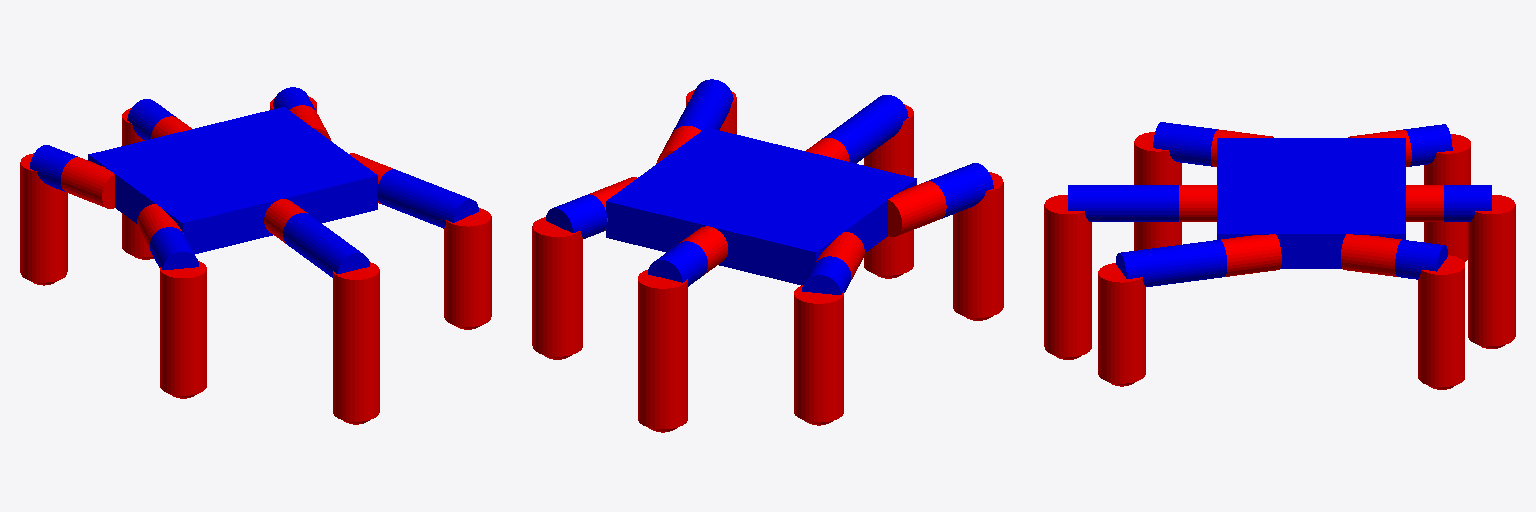
--- Facts derived from the render (not from the file) ---
3 views of the same robot in one strip: view 1: azimuth 30°, elevation 25°; view 2: azimuth 150°, elevation 25°; view 3: azimuth 270°, elevation 25° (orthographic).
Robot: pexod — 19 links, 18 joints (18 revolute); root link base_link; default pose: every joint at zero.
Links seen in each view (by area): view 1: base_link, leg_4_3, leg_5_3, leg_3_3, leg_0_3, leg_3_2, leg_4_2, leg_0_1, leg_5_2, leg_1_3, leg_0_2, leg_1_2 (+4 smaller); view 2: base_link, leg_1_3, leg_2_3, leg_0_3, leg_5_3, leg_4_3, leg_4_2, leg_5_1, leg_5_2, leg_3_2, leg_2_2, leg_1_2 (+5 smaller); view 3: base_link, leg_4_3, leg_1_3, leg_2_3, leg_3_3, leg_4_2, leg_3_2, leg_5_3, leg_0_3, leg_3_1, leg_2_1, leg_5_2 (+5 smaller).
Boxes of the visible links, x1,y1,x2,y2 form: base_link: (88,107,377,253); leg_4_3: (333,262,379,424); leg_5_3: (160,261,206,398); leg_3_3: (444,208,491,329); leg_0_3: (20,153,67,285); leg_3_2: (377,169,478,228); leg_4_2: (283,213,369,277); leg_0_1: (61,157,114,208); leg_5_2: (150,227,198,269); leg_1_3: (122,108,153,259); leg_0_2: (30,145,77,191); leg_1_2: (127,99,175,140); base_link: (606,127,916,285); leg_1_3: (638,270,687,432); leg_2_3: (532,217,582,359); leg_0_3: (794,285,843,425); leg_5_3: (953,172,1003,320); leg_4_3: (864,104,913,278); leg_4_2: (822,95,908,163); leg_5_1: (888,181,946,236); leg_5_2: (926,163,993,218); leg_3_2: (672,79,733,132); leg_2_2: (546,194,606,238); leg_1_2: (648,241,707,286); base_link: (1217,138,1405,268); leg_4_3: (1044,195,1091,359); leg_1_3: (1468,195,1515,348); leg_2_3: (1418,255,1464,389); leg_3_3: (1098,263,1145,386); leg_4_2: (1068,185,1178,221); leg_3_2: (1116,240,1226,286); leg_5_3: (1134,132,1181,250); leg_0_3: (1424,134,1470,261); leg_3_1: (1221,234,1281,276); leg_2_1: (1341,234,1401,276); leg_5_2: (1153,122,1217,166).
Bounding box of the posed robot: 0.3769 × 0.4973 × 0.1989 m (x, y, z).
Geometry: primitives only (box / cylinder / sphere), no mesh files.

The robot description file, URDF, robot "pexod":
<?xml version="1.0" ?>
<!-- =================================================================================== -->
<!-- |    This document was autogenerated by xacro from pexod.xacro                    | -->
<!-- |    EDITING THIS FILE BY HAND IS NOT RECOMMENDED                                 | -->
<!-- =================================================================================== -->
<robot name="pexod" xmlns:xacro="http://www.ros.org/wiki/xacro">
  <!-- <xacro:include filename="$(find pexod_description)/urdf/pexod_control.xacro" /> -->
  <!-- MATERIALS -->
  <material name="Blue">
    <color rgba="0 0 1 1"/>
  </material>
  <material name="Red">
    <color rgba="1 0 0 1"/>
  </material>
  <material name="Green">
    <color rgba="0 1 0 1"/>
  </material>
  <material name="Yellow">
    <color rgba="1 1 0 1"/>
  </material>
  <material name="LightGrey">
    <color rgba="0.6 0.6 0.6 1.0"/>
  </material>
  <!-- END OF MATERIALS -->
  <!-- XACRO MACROS FOR VISUALS AND COLLISIONS -->
  <!-- END OF XACRO MACROS -->
  <!-- TORSO -->
  <link name="base_link">
    <visual>
      <origin rpy="0 0 0" xyz="0 0 0"/>
      <geometry>
        <box size="0.24 0.2 0.04"/>
      </geometry>
      <material name="Blue"/>
    </visual>
    <collision>
      <origin rpy="0 0 0" xyz="0 0 0"/>
      <geometry>
        <box size="0.24 0.2 0.04"/>
      </geometry>
    </collision>
    <inertial>
      <!-- CENTER OF MASS -->
      <origin rpy="0 0 0" xyz="0 0 0"/>
      <mass value="1.031"/>
      <!-- box inertia: 1/12*m(y^2+z^2), ... -->
      <inertia ixx="0.00357413333333" ixy="0" ixz="0" iyy="0.00508626666667" iyz="0" izz="0.00838546666667"/>
    </inertial>
  </link>
  <!-- XACRO MACRO FOR LEGS LINKS/JOINTS -->
  <!-- END OF LEG LINKS/JOINTS -->
  <joint name="body_leg_2" type="revolute">
    <parent link="base_link"/>
    <child link="leg_2_1"/>
    <limit effort="30.0" lower="-1.57079632679" upper="1.57079632679" velocity="7.0"/>
    <origin rpy="0 0 -0.3" xyz="0.11 0.04 0"/>
    <!-- <xacro:if value="${index == 5 or index == 4 or index == 3}">
                <axis xyz="0 0 1"/>
            </xacro:if>
            <xacro:if value="${index == 2 or index == 1 or index == 0}"> -->
    <axis xyz="0 0 1"/>
    <!-- </xacro:if> -->
    <dynamics damping="0.0"/>
  </joint>
  <link name="leg_2_1">
    <visual>
      <origin rpy="1.57079632679 0 0" xyz="0.01 0.03 0"/>
      <geometry>
        <cylinder length="0.06" radius="0.02"/>
      </geometry>
      <material name="Red"/>
    </visual>
    <collision>
      <origin rpy="1.57079632679 0 0" xyz="0.01 0.03 0"/>
      <geometry>
        <box size="0.02 0.02 0.06"/>
      </geometry>
    </collision>
    <inertial>
      <!-- CENTER OF MASS -->
      <origin rpy="1.57079632679 0 0" xyz="0.01 0.03 0"/>
      <mass value="0.02"/>
      <!-- box inertia: 1/12*m(y^2+z^2), ... -->
      <inertia ixx="6.66666666667e-06" ixy="0" ixz="0" iyy="6.66666666667e-06" iyz="0" izz="1.33333333333e-06"/>
    </inertial>
  </link>
  <joint name="leg_2_1_2" type="revolute">
    <parent link="leg_2_1"/>
    <child link="leg_2_2"/>
    <limit effort="30.0" lower="-0.78539816339" upper="0.78539816339" velocity="7.0"/>
    <origin rpy="0 0 0" xyz="0 0.06 0"/>
    <axis xyz="1 0 0"/>
    <dynamics damping="0.0"/>
  </joint>
  <link name="leg_2_2">
    <visual>
      <origin rpy="1.57079632679 0 0" xyz="0.01 0.023179310268 0"/>
      <geometry>
        <cylinder length="0.0463586205359" radius="0.02"/>
      </geometry>
      <material name="Blue"/>
    </visual>
    <collision>
      <origin rpy="1.57079632679 0 0" xyz="0.01 0.023179310268 0"/>
      <geometry>
        <box size="0.02 0.02 0.0463586205359"/>
      </geometry>
    </collision>
    <inertial>
      <!-- CENTER OF MASS -->
      <origin rpy="1.57079632679 0 0" xyz="0.01 0.023179310268 0"/>
      <mass value="0.184"/>
      <!-- box inertia: 1/12*m(y^2+z^2), ... -->
      <inertia ixx="3.90865327025e-05" ixy="0" ixz="0" iyy="3.90865327025e-05" iyz="0" izz="1.22666666667e-05"/>
    </inertial>
  </link>
  <joint name="leg_2_2_3" type="revolute">
    <parent link="leg_2_2"/>
    <child link="leg_2_3"/>
    <limit effort="30.0" lower="-0.78539816339" upper="0.78539816339" velocity="7.0"/>
    <origin rpy="-1.57079632679 0 0" xyz="0 0.0463586205359 0"/>
    <axis xyz="-1 0 0"/>
    <dynamics damping="0.0"/>
  </joint>
  <link name="leg_2_3">
    <visual>
      <origin rpy="1.57079632679 0 0" xyz="0.0125 0.065428430528 0"/>
      <geometry>
        <cylinder length="0.130856861056" radius="0.025"/>
      </geometry>
      <material name="Red"/>
    </visual>
    <visual>
      <origin rpy="1.57079632679 0 0" xyz="0.0125 0.118356861056 0"/>
      <geometry>
        <sphere radius="0.025"/>
      </geometry>
      <material name="Red"/>
    </visual>
    <collision>
      <origin rpy="1.57079632679 0 0" xyz="0.0125 0.065428430528 0"/>
      <geometry>
        <box size="0.025 0.025 0.130856861056"/>
      </geometry>
    </collision>
    <collision>
      <origin rpy="1.57079632679 0 0" xyz="0.0125 0.118356861056 0"/>
      <geometry>
        <sphere radius="0.025"/>
      </geometry>
      <material name="Red"/>
    </collision>
    <inertial>
      <!-- CENTER OF MASS -->
      <origin rpy="1.57079632679 0 0" xyz="0.0125 0.065428430528 0"/>
      <mass value="0.04"/>
      <!-- box inertia: 1/12*m(y^2+z^2), ... -->
      <inertia ixx="5.91617269514e-05" ixy="0" ixz="0" iyy="5.91617269514e-05" iyz="0" izz="4.16666666667e-06"/>
    </inertial>
  </link>
  <joint name="body_leg_3" type="revolute">
    <parent link="base_link"/>
    <child link="leg_3_1"/>
    <limit effort="30.0" lower="-1.57079632679" upper="1.57079632679" velocity="7.0"/>
    <origin rpy="0 0 0.3" xyz="0.11 -0.04 0"/>
    <!-- <xacro:if value="${index == 5 or index == 4 or index == 3}">
                <axis xyz="0 0 1"/>
            </xacro:if>
            <xacro:if value="${index == 2 or index == 1 or index == 0}"> -->
    <axis xyz="0 0 1"/>
    <!-- </xacro:if> -->
    <dynamics damping="0.0"/>
  </joint>
  <link name="leg_3_1">
    <visual>
      <origin rpy="1.57079632679 0 0" xyz="0.01 -0.03 0"/>
      <geometry>
        <cylinder length="0.06" radius="0.02"/>
      </geometry>
      <material name="Red"/>
    </visual>
    <collision>
      <origin rpy="1.57079632679 0 0" xyz="0.01 -0.03 0"/>
      <geometry>
        <box size="0.02 0.02 0.06"/>
      </geometry>
    </collision>
    <inertial>
      <!-- CENTER OF MASS -->
      <origin rpy="1.57079632679 0 0" xyz="0.01 -0.03 0"/>
      <mass value="0.02"/>
      <!-- box inertia: 1/12*m(y^2+z^2), ... -->
      <inertia ixx="6.66666666667e-06" ixy="0" ixz="0" iyy="6.66666666667e-06" iyz="0" izz="1.33333333333e-06"/>
    </inertial>
  </link>
  <joint name="leg_3_1_2" type="revolute">
    <parent link="leg_3_1"/>
    <child link="leg_3_2"/>
    <limit effort="30.0" lower="-0.78539816339" upper="0.78539816339" velocity="7.0"/>
    <origin rpy="0 0 0" xyz="0 -0.06 0"/>
    <axis xyz="-1 0 0"/>
    <dynamics damping="0.0"/>
  </joint>
  <link name="leg_3_2">
    <visual>
      <origin rpy="1.57079632679 0 0" xyz="0.01 -0.0555619319605 0"/>
      <geometry>
        <cylinder length="0.111123863921" radius="0.02"/>
      </geometry>
      <material name="Blue"/>
    </visual>
    <collision>
      <origin rpy="1.57079632679 0 0" xyz="0.01 -0.0555619319605 0"/>
      <geometry>
        <box size="0.02 0.02 0.111123863921"/>
      </geometry>
    </collision>
    <inertial>
      <!-- CENTER OF MASS -->
      <origin rpy="1.57079632679 0 0" xyz="0.01 -0.0555619319605 0"/>
      <mass value="0.184"/>
      <!-- box inertia: 1/12*m(y^2+z^2), ... -->
      <inertia ixx="0.000195477201369" ixy="0" ixz="0" iyy="0.000195477201369" iyz="0" izz="1.22666666667e-05"/>
    </inertial>
  </link>
  <joint name="leg_3_2_3" type="revolute">
    <parent link="leg_3_2"/>
    <child link="leg_3_3"/>
    <limit effort="30.0" lower="-0.78539816339" upper="0.78539816339" velocity="7.0"/>
    <origin rpy="1.57079632679 0 0" xyz="0 -0.111123863921 0"/>
    <axis xyz="1 0 0"/>
    <dynamics damping="0.0"/>
  </joint>
  <link name="leg_3_3">
    <visual>
      <origin rpy="1.57079632679 0 0" xyz="0.0125 -0.058906116355 0"/>
      <geometry>
        <cylinder length="0.11781223271" radius="0.025"/>
      </geometry>
      <material name="Red"/>
    </visual>
    <visual>
      <origin rpy="1.57079632679 0 0" xyz="0.0125 -0.10531223271 0"/>
      <geometry>
        <sphere radius="0.025"/>
      </geometry>
      <material name="Red"/>
    </visual>
    <collision>
      <origin rpy="1.57079632679 0 0" xyz="0.0125 -0.058906116355 0"/>
      <geometry>
        <box size="0.025 0.025 0.11781223271"/>
      </geometry>
    </collision>
    <collision>
      <origin rpy="1.57079632679 0 0" xyz="0.0125 -0.10531223271 0"/>
      <geometry>
        <sphere radius="0.025"/>
      </geometry>
      <material name="Red"/>
    </collision>
    <inertial>
      <!-- CENTER OF MASS -->
      <origin rpy="1.57079632679 0 0" xyz="0.0125 -0.058906116355 0"/>
      <mass value="0.04"/>
      <!-- box inertia: 1/12*m(y^2+z^2), ... -->
      <inertia ixx="4.83490739204e-05" ixy="0" ixz="0" iyy="4.83490739204e-05" iyz="0" izz="4.16666666667e-06"/>
    </inertial>
  </link>
  <joint name="body_leg_0" type="revolute">
    <parent link="base_link"/>
    <child link="leg_0_1"/>
    <limit effort="30.0" lower="-1.57079632679" upper="1.57079632679" velocity="7.0"/>
    <origin rpy="0 0 0.3" xyz="-0.13 0.04 0"/>
    <!-- <xacro:if value="${index == 5 or index == 4 or index == 3}">
                <axis xyz="0 0 1"/>
            </xacro:if>
            <xacro:if value="${index == 2 or index == 1 or index == 0}"> -->
    <axis xyz="0 0 1"/>
    <!-- </xacro:if> -->
    <dynamics damping="0.0"/>
  </joint>
  <link name="leg_0_1">
    <visual>
      <origin rpy="1.57079632679 0 0" xyz="0.01 0.03 0"/>
      <geometry>
        <cylinder length="0.06" radius="0.02"/>
      </geometry>
      <material name="Red"/>
    </visual>
    <collision>
      <origin rpy="1.57079632679 0 0" xyz="0.01 0.03 0"/>
      <geometry>
        <box size="0.02 0.02 0.06"/>
      </geometry>
    </collision>
    <inertial>
      <!-- CENTER OF MASS -->
      <origin rpy="1.57079632679 0 0" xyz="0.01 0.03 0"/>
      <mass value="0.02"/>
      <!-- box inertia: 1/12*m(y^2+z^2), ... -->
      <inertia ixx="6.66666666667e-06" ixy="0" ixz="0" iyy="6.66666666667e-06" iyz="0" izz="1.33333333333e-06"/>
    </inertial>
  </link>
  <joint name="leg_0_1_2" type="revolute">
    <parent link="leg_0_1"/>
    <child link="leg_0_2"/>
    <limit effort="30.0" lower="-0.78539816339" upper="0.78539816339" velocity="7.0"/>
    <origin rpy="0 0 0" xyz="0 0.06 0"/>
    <axis xyz="1 0 0"/>
    <dynamics damping="0.0"/>
  </joint>
  <link name="leg_0_2">
    <visual>
      <origin rpy="1.57079632679 0 0" xyz="0.01 0.0225320813019 0"/>
      <geometry>
        <cylinder length="0.0450641626039" radius="0.02"/>
      </geometry>
      <material name="Blue"/>
    </visual>
    <collision>
      <origin rpy="1.57079632679 0 0" xyz="0.01 0.0225320813019 0"/>
      <geometry>
        <box size="0.02 0.02 0.0450641626039"/>
      </geometry>
    </collision>
    <inertial>
      <!-- CENTER OF MASS -->
      <origin rpy="1.57079632679 0 0" xyz="0.01 0.0225320813019 0"/>
      <mass value="0.184"/>
      <!-- box inertia: 1/12*m(y^2+z^2), ... -->
      <inertia ixx="3.72719408516e-05" ixy="0" ixz="0" iyy="3.72719408516e-05" iyz="0" izz="1.22666666667e-05"/>
    </inertial>
  </link>
  <joint name="leg_0_2_3" type="revolute">
    <parent link="leg_0_2"/>
    <child link="leg_0_3"/>
    <limit effort="30.0" lower="-0.78539816339" upper="0.78539816339" velocity="7.0"/>
    <origin rpy="-1.57079632679 0 0" xyz="0 0.0450641626039 0"/>
    <axis xyz="-1 0 0"/>
    <dynamics damping="0.0"/>
  </joint>
  <link name="leg_0_3">
    <visual>
      <origin rpy="1.57079632679 0 0" xyz="0.0125 0.064810191689 0"/>
      <geometry>
        <cylinder length="0.129620383378" radius="0.025"/>
      </geometry>
      <material name="Red"/>
    </visual>
    <visual>
      <origin rpy="1.57079632679 0 0" xyz="0.0125 0.117120383378 0"/>
      <geometry>
        <sphere radius="0.025"/>
      </geometry>
      <material name="Red"/>
    </visual>
    <collision>
      <origin rpy="1.57079632679 0 0" xyz="0.0125 0.064810191689 0"/>
      <geometry>
        <box size="0.025 0.025 0.129620383378"/>
      </geometry>
    </collision>
    <collision>
      <origin rpy="1.57079632679 0 0" xyz="0.0125 0.117120383378 0"/>
      <geometry>
        <sphere radius="0.025"/>
      </geometry>
      <material name="Red"/>
    </collision>
    <inertial>
      <!-- CENTER OF MASS -->
      <origin rpy="1.57079632679 0 0" xyz="0.0125 0.064810191689 0"/>
      <mass value="0.04"/>
      <!-- box inertia: 1/12*m(y^2+z^2), ... -->
      <inertia ixx="5.80881459569e-05" ixy="0" ixz="0" iyy="5.80881459569e-05" iyz="0" izz="4.16666666667e-06"/>
    </inertial>
  </link>
  <joint name="body_leg_5" type="revolute">
    <parent link="base_link"/>
    <child link="leg_5_1"/>
    <limit effort="30.0" lower="-1.57079632679" upper="1.57079632679" velocity="7.0"/>
    <origin rpy="0 0 -0.3" xyz="-0.13 -0.04 0"/>
    <!-- <xacro:if value="${index == 5 or index == 4 or index == 3}">
                <axis xyz="0 0 1"/>
            </xacro:if>
            <xacro:if value="${index == 2 or index == 1 or index == 0}"> -->
    <axis xyz="0 0 1"/>
    <!-- </xacro:if> -->
    <dynamics damping="0.0"/>
  </joint>
  <link name="leg_5_1">
    <visual>
      <origin rpy="1.57079632679 0 0" xyz="0.01 -0.03 0"/>
      <geometry>
        <cylinder length="0.06" radius="0.02"/>
      </geometry>
      <material name="Red"/>
    </visual>
    <collision>
      <origin rpy="1.57079632679 0 0" xyz="0.01 -0.03 0"/>
      <geometry>
        <box size="0.02 0.02 0.06"/>
      </geometry>
    </collision>
    <inertial>
      <!-- CENTER OF MASS -->
      <origin rpy="1.57079632679 0 0" xyz="0.01 -0.03 0"/>
      <mass value="0.02"/>
      <!-- box inertia: 1/12*m(y^2+z^2), ... -->
      <inertia ixx="6.66666666667e-06" ixy="0" ixz="0" iyy="6.66666666667e-06" iyz="0" izz="1.33333333333e-06"/>
    </inertial>
  </link>
  <joint name="leg_5_1_2" type="revolute">
    <parent link="leg_5_1"/>
    <child link="leg_5_2"/>
    <limit effort="30.0" lower="-0.78539816339" upper="0.78539816339" velocity="7.0"/>
    <origin rpy="0 0 0" xyz="0 -0.06 0"/>
    <axis xyz="-1 0 0"/>
    <dynamics damping="0.0"/>
  </joint>
  <link name="leg_5_2">
    <visual>
      <origin rpy="1.57079632679 0 0" xyz="0.01 -0.0317839748459 0"/>
      <geometry>
        <cylinder length="0.0635679496917" radius="0.02"/>
      </geometry>
      <material name="Blue"/>
    </visual>
    <collision>
      <origin rpy="1.57079632679 0 0" xyz="0.01 -0.0317839748459 0"/>
      <geometry>
        <box size="0.02 0.02 0.0635679496917"/>
      </geometry>
    </collision>
    <inertial>
      <!-- CENTER OF MASS -->
      <origin rpy="1.57079632679 0 0" xyz="0.01 -0.0317839748459 0"/>
      <mass value="0.184"/>
      <!-- box inertia: 1/12*m(y^2+z^2), ... -->
      <inertia ixx="6.80935581628e-05" ixy="0" ixz="0" iyy="6.80935581628e-05" iyz="0" izz="1.22666666667e-05"/>
    </inertial>
  </link>
  <joint name="leg_5_2_3" type="revolute">
    <parent link="leg_5_2"/>
    <child link="leg_5_3"/>
    <limit effort="30.0" lower="-0.78539816339" upper="0.78539816339" velocity="7.0"/>
    <origin rpy="1.57079632679 0 0" xyz="0 -0.0635679496917 0"/>
    <axis xyz="1 0 0"/>
    <dynamics damping="0.0"/>
  </joint>
  <link name="leg_5_3">
    <visual>
      <origin rpy="1.57079632679 0 0" xyz="0.0125 -0.0688156695075 0"/>
      <geometry>
        <cylinder length="0.137631339015" radius="0.025"/>
      </geometry>
      <material name="Red"/>
    </visual>
    <visual>
      <origin rpy="1.57079632679 0 0" xyz="0.0125 -0.125131339015 0"/>
      <geometry>
        <sphere radius="0.025"/>
      </geometry>
      <material name="Red"/>
    </visual>
    <collision>
      <origin rpy="1.57079632679 0 0" xyz="0.0125 -0.0688156695075 0"/>
      <geometry>
        <box size="0.025 0.025 0.137631339015"/>
      </geometry>
    </collision>
    <collision>
      <origin rpy="1.57079632679 0 0" xyz="0.0125 -0.125131339015 0"/>
      <geometry>
        <sphere radius="0.025"/>
      </geometry>
      <material name="Red"/>
    </collision>
    <inertial>
      <!-- CENTER OF MASS -->
      <origin rpy="1.57079632679 0 0" xyz="0.0125 -0.0688156695075 0"/>
      <mass value="0.04"/>
      <!-- box inertia: 1/12*m(y^2+z^2), ... -->
      <inertia ixx="6.52246182635e-05" ixy="0" ixz="0" iyy="6.52246182635e-05" iyz="0" izz="4.16666666667e-06"/>
    </inertial>
  </link>
  <joint name="body_leg_1" type="revolute">
    <parent link="base_link"/>
    <child link="leg_1_1"/>
    <limit effort="30.0" lower="-1.57079632679" upper="1.57079632679" velocity="7.0"/>
    <origin rpy="0 0 0" xyz="-0.01 0.08 0"/>
    <!-- <xacro:if value="${index == 5 or index == 4 or index == 3}">
                <axis xyz="0 0 1"/>
            </xacro:if>
            <xacro:if value="${index == 2 or index == 1 or index == 0}"> -->
    <axis xyz="0 0 1"/>
    <!-- </xacro:if> -->
    <dynamics damping="0.0"/>
  </joint>
  <link name="leg_1_1">
    <visual>
      <origin rpy="1.57079632679 0 0" xyz="0.01 0.03 0"/>
      <geometry>
        <cylinder length="0.06" radius="0.02"/>
      </geometry>
      <material name="Red"/>
    </visual>
    <collision>
      <origin rpy="1.57079632679 0 0" xyz="0.01 0.03 0"/>
      <geometry>
        <box size="0.02 0.02 0.06"/>
      </geometry>
    </collision>
    <inertial>
      <!-- CENTER OF MASS -->
      <origin rpy="1.57079632679 0 0" xyz="0.01 0.03 0"/>
      <mass value="0.02"/>
      <!-- box inertia: 1/12*m(y^2+z^2), ... -->
      <inertia ixx="6.66666666667e-06" ixy="0" ixz="0" iyy="6.66666666667e-06" iyz="0" izz="1.33333333333e-06"/>
    </inertial>
  </link>
  <joint name="leg_1_1_2" type="revolute">
    <parent link="leg_1_1"/>
    <child link="leg_1_2"/>
    <limit effort="30.0" lower="-0.78539816339" upper="0.78539816339" velocity="7.0"/>
    <origin rpy="0 0 0" xyz="0 0.06 0"/>
    <axis xyz="1 0 0"/>
    <dynamics damping="0.0"/>
  </joint>
  <link name="leg_1_2">
    <visual>
      <origin rpy="1.57079632679 0 0" xyz="0.01 0.025332366023 0"/>
      <geometry>
        <cylinder length="0.0506647320459" radius="0.02"/>
      </geometry>
      <material name="Blue"/>
    </visual>
    <collision>
      <origin rpy="1.57079632679 0 0" xyz="0.01 0.025332366023 0"/>
      <geometry>
        <box size="0.02 0.02 0.0506647320459"/>
      </geometry>
    </collision>
    <inertial>
      <!-- CENTER OF MASS -->
      <origin rpy="1.57079632679 0 0" xyz="0.01 0.025332366023 0"/>
      <mass value="0.184"/>
      <!-- box inertia: 1/12*m(y^2+z^2), ... -->
      <inertia ixx="4.54926977903e-05" ixy="0" ixz="0" iyy="4.54926977903e-05" iyz="0" izz="1.22666666667e-05"/>
    </inertial>
  </link>
  <joint name="leg_1_2_3" type="revolute">
    <parent link="leg_1_2"/>
    <child link="leg_1_3"/>
    <limit effort="30.0" lower="-0.78539816339" upper="0.78539816339" velocity="7.0"/>
    <origin rpy="-1.57079632679 0 0" xyz="0 0.0506647320459 0"/>
    <axis xyz="-1 0 0"/>
    <dynamics damping="0.0"/>
  </joint>
  <link name="leg_1_3">
    <visual>
      <origin rpy="1.57079632679 0 0" xyz="0.0125 0.076875932524 0"/>
      <geometry>
        <cylinder length="0.153751865048" radius="0.025"/>
      </geometry>
      <material name="Red"/>
    </visual>
    <visual>
      <origin rpy="1.57079632679 0 0" xyz="0.0125 0.141251865048 0"/>
      <geometry>
        <sphere radius="0.025"/>
      </geometry>
      <material name="Red"/>
    </visual>
    <collision>
      <origin rpy="1.57079632679 0 0" xyz="0.0125 0.076875932524 0"/>
      <geometry>
        <box size="0.025 0.025 0.153751865048"/>
      </geometry>
    </collision>
    <collision>
      <origin rpy="1.57079632679 0 0" xyz="0.0125 0.141251865048 0"/>
      <geometry>
        <sphere radius="0.025"/>
      </geometry>
      <material name="Red"/>
    </collision>
    <inertial>
      <!-- CENTER OF MASS -->
      <origin rpy="1.57079632679 0 0" xyz="0.0125 0.076875932524 0"/>
      <mass value="0.04"/>
      <!-- box inertia: 1/12*m(y^2+z^2), ... -->
      <inertia ixx="8.08821200191e-05" ixy="0" ixz="0" iyy="8.08821200191e-05" iyz="0" izz="4.16666666667e-06"/>
    </inertial>
  </link>
  <joint name="body_leg_4" type="revolute">
    <parent link="base_link"/>
    <child link="leg_4_1"/>
    <limit effort="30.0" lower="-1.57079632679" upper="1.57079632679" velocity="7.0"/>
    <origin rpy="0 0 0" xyz="-0.01 -0.08 0"/>
    <!-- <xacro:if value="${index == 5 or index == 4 or index == 3}">
                <axis xyz="0 0 1"/>
            </xacro:if>
            <xacro:if value="${index == 2 or index == 1 or index == 0}"> -->
    <axis xyz="0 0 1"/>
    <!-- </xacro:if> -->
    <dynamics damping="0.0"/>
  </joint>
  <link name="leg_4_1">
    <visual>
      <origin rpy="1.57079632679 0 0" xyz="0.01 -0.03 0"/>
      <geometry>
        <cylinder length="0.06" radius="0.02"/>
      </geometry>
      <material name="Red"/>
    </visual>
    <collision>
      <origin rpy="1.57079632679 0 0" xyz="0.01 -0.03 0"/>
      <geometry>
        <box size="0.02 0.02 0.06"/>
      </geometry>
    </collision>
    <inertial>
      <!-- CENTER OF MASS -->
      <origin rpy="1.57079632679 0 0" xyz="0.01 -0.03 0"/>
      <mass value="0.02"/>
      <!-- box inertia: 1/12*m(y^2+z^2), ... -->
      <inertia ixx="6.66666666667e-06" ixy="0" ixz="0" iyy="6.66666666667e-06" iyz="0" izz="1.33333333333e-06"/>
    </inertial>
  </link>
  <joint name="leg_4_1_2" type="revolute">
    <parent link="leg_4_1"/>
    <child link="leg_4_2"/>
    <limit effort="30.0" lower="-0.78539816339" upper="0.78539816339" velocity="7.0"/>
    <origin rpy="0 0 0" xyz="0 -0.06 0"/>
    <axis xyz="-1 0 0"/>
    <dynamics damping="0.0"/>
  </joint>
  <link name="leg_4_2">
    <visual>
      <origin rpy="1.57079632679 0 0" xyz="0.01 -0.0583228393925 0"/>
      <geometry>
        <cylinder length="0.116645678785" radius="0.02"/>
      </geometry>
      <material name="Blue"/>
    </visual>
    <collision>
      <origin rpy="1.57079632679 0 0" xyz="0.01 -0.0583228393925 0"/>
      <geometry>
        <box size="0.02 0.02 0.116645678785"/>
      </geometry>
    </collision>
    <inertial>
      <!-- CENTER OF MASS -->
      <origin rpy="1.57079632679 0 0" xyz="0.01 -0.0583228393925 0"/>
      <mass value="0.184"/>
      <!-- box inertia: 1/12*m(y^2+z^2), ... -->
      <inertia ixx="0.000214761953815" ixy="0" ixz="0" iyy="0.000214761953815" iyz="0" izz="1.22666666667e-05"/>
    </inertial>
  </link>
  <joint name="leg_4_2_3" type="revolute">
    <parent link="leg_4_2"/>
    <child link="leg_4_3"/>
    <limit effort="30.0" lower="-0.78539816339" upper="0.78539816339" velocity="7.0"/>
    <origin rpy="1.57079632679 0 0" xyz="0 -0.116645678785 0"/>
    <axis xyz="1 0 0"/>
    <dynamics damping="0.0"/>
  </joint>
  <link name="leg_4_3">
    <visual>
      <origin rpy="1.57079632679 0 0" xyz="0.0125 -0.0831762205505 0"/>
      <geometry>
        <cylinder length="0.166352441101" radius="0.025"/>
      </geometry>
      <material name="Red"/>
    </visual>
    <visual>
      <origin rpy="1.57079632679 0 0" xyz="0.0125 -0.153852441101 0"/>
      <geometry>
        <sphere radius="0.025"/>
      </geometry>
      <material name="Red"/>
    </visual>
    <collision>
      <origin rpy="1.57079632679 0 0" xyz="0.0125 -0.0831762205505 0"/>
      <geometry>
        <box size="0.025 0.025 0.166352441101"/>
      </geometry>
    </collision>
    <collision>
      <origin rpy="1.57079632679 0 0" xyz="0.0125 -0.153852441101 0"/>
      <geometry>
        <sphere radius="0.025"/>
      </geometry>
      <material name="Red"/>
    </collision>
    <inertial>
      <!-- CENTER OF MASS -->
      <origin rpy="1.57079632679 0 0" xyz="0.0125 -0.0831762205505 0"/>
      <mass value="0.04"/>
      <!-- box inertia: 1/12*m(y^2+z^2), ... -->
      <inertia ixx="9.43271155342e-05" ixy="0" ixz="0" iyy="9.43271155342e-05" iyz="0" izz="4.16666666667e-06"/>
    </inertial>
  </link>
  <!-- END OF LEG LINKS/JOINTS -->
</robot>
